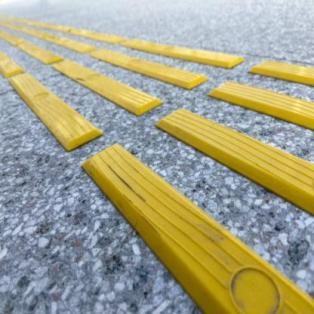Podoctatil: (0, 10, 314, 314)
